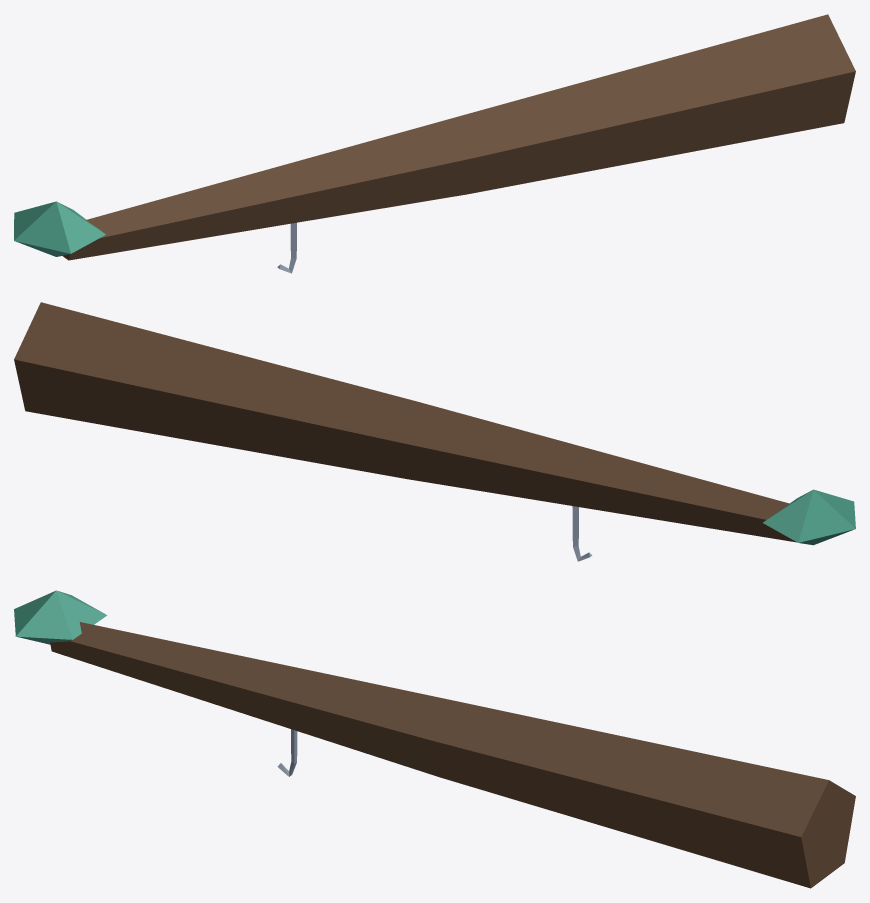
The model's file is bell-branch.glb.
The picture shows the model from 3 angles, top to bottom: view 1: azimuth 30°, elevation 25°; view 2: azimuth 150°, elevation 25°; view 3: azimuth 330°, elevation 25°; orthographic projection.
Visible parts, largest first — view 1: bell-branch; view 2: bell-branch; view 3: bell-branch.
Boxes of the visible parts, box(x1,y1,x2,y2) form: bell-branch: box(14, 14, 855, 273); bell-branch: box(14, 302, 855, 561); bell-branch: box(14, 590, 855, 888).
Bounding box in the file's own units: 6.1 × 0.9188 × 0.7341.
